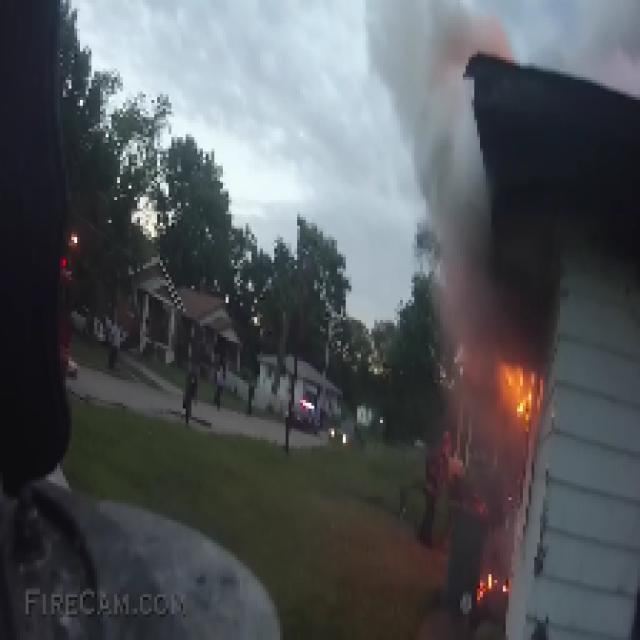Fire: (486, 357, 548, 434), (477, 568, 509, 608)
Smoke: (366, 3, 534, 563), (552, 3, 638, 100)
